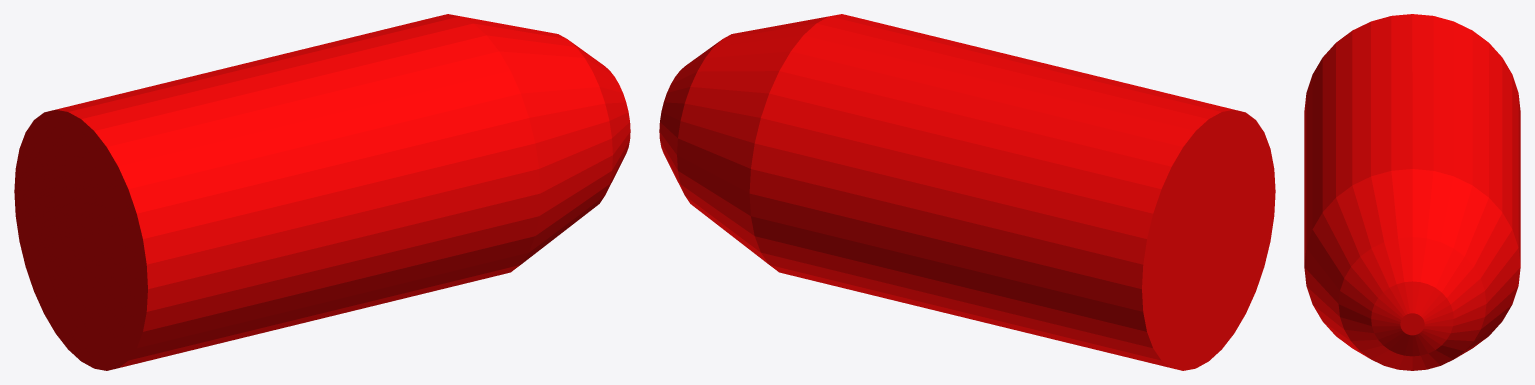
The model's file is Bullet.fbx.
The picture shows the model from 3 angles, left to right: view 1: azimuth 30°, elevation 25°; view 2: azimuth 150°, elevation 25°; view 3: azimuth 270°, elevation 25°; orthographic projection. The views are drawn at different scales.
Parts seen in each view (by area): view 1: Cylinder; view 2: Cylinder; view 3: Cylinder.
Boxes of the visible parts, box(x1,y1,x2,y2) form: Cylinder: box(14, 14, 630, 370); Cylinder: box(659, 14, 1275, 370); Cylinder: box(1304, 14, 1520, 370).
Bounding box in the file's own units: 464 × 200 × 200.
